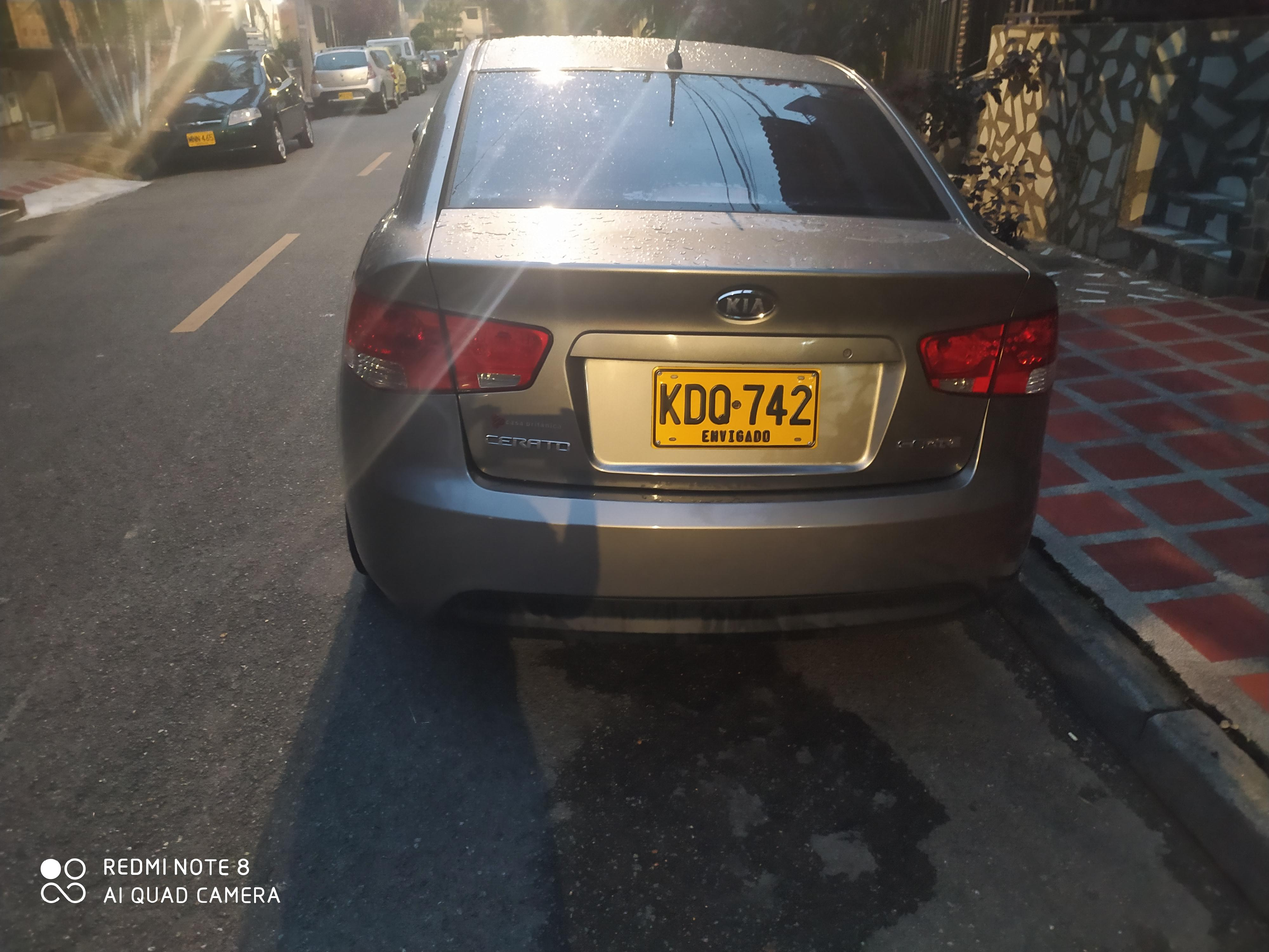placa: (645, 359, 826, 454)
